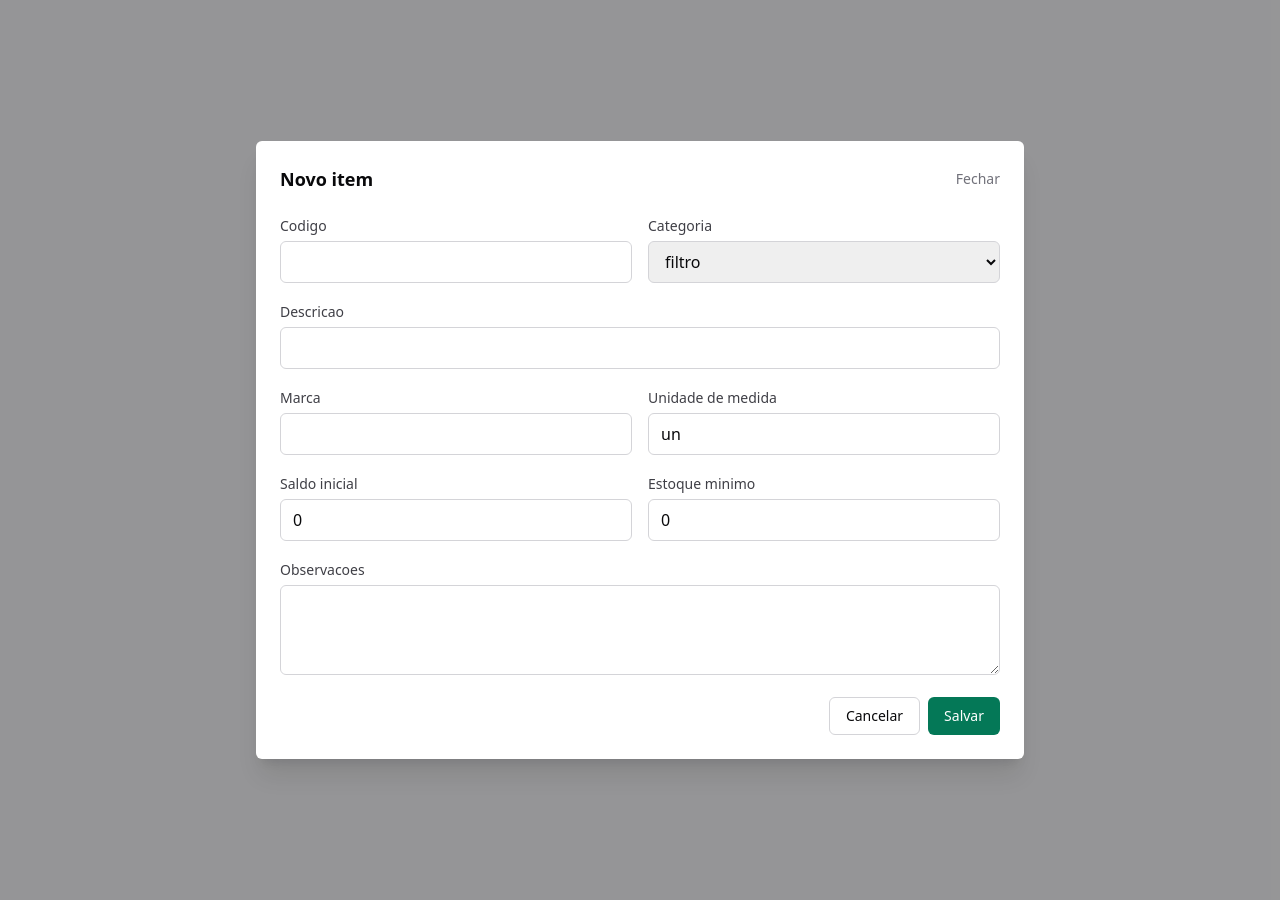
Test: ItemEstoqueFormModal › valida categoria obrigatoria
Select "Selecione" in the dropdown labelled "Categoria" at (824,262), box [648, 241, 1000, 283]
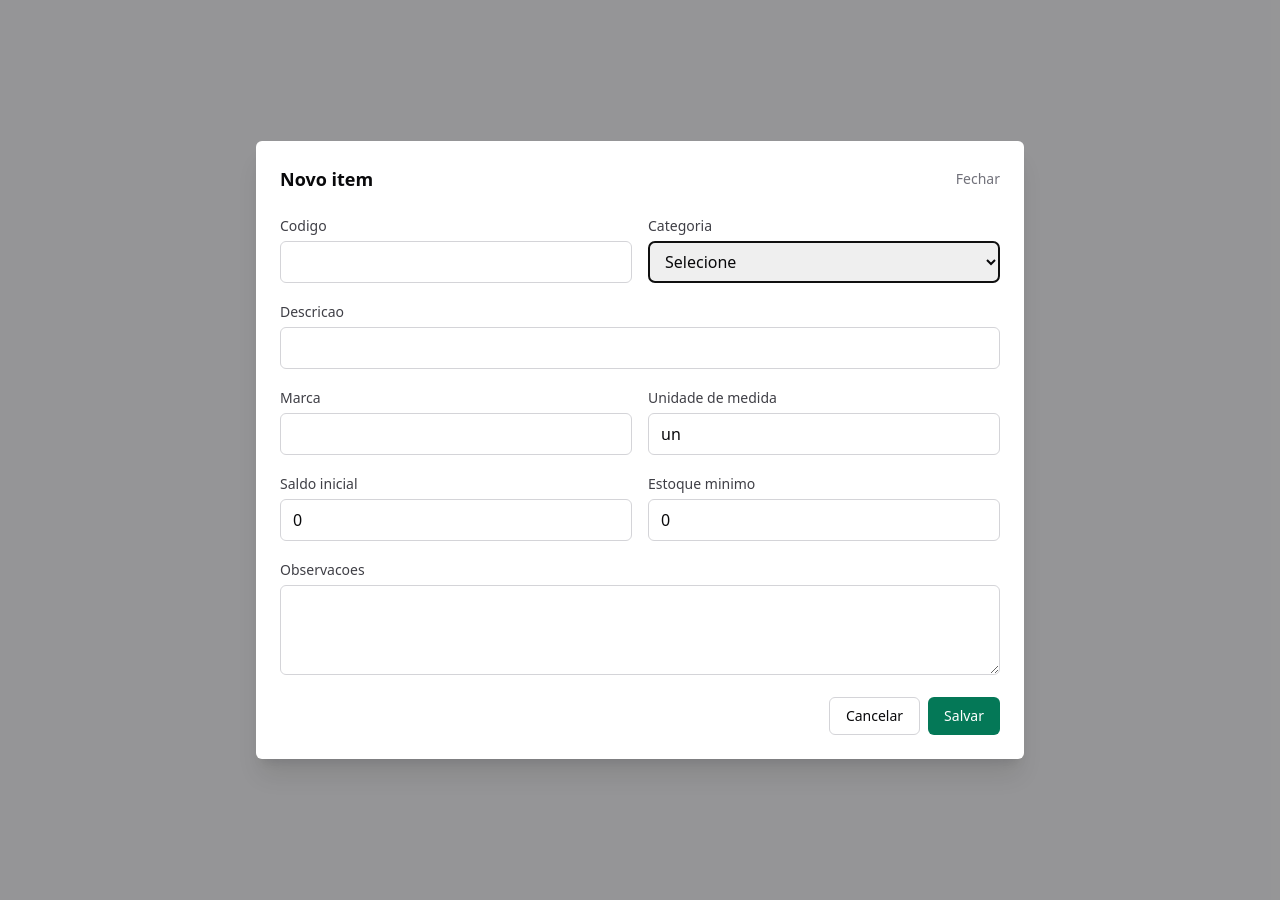
Click the button "Salvar" at (964,716), box [928, 697, 1000, 735]
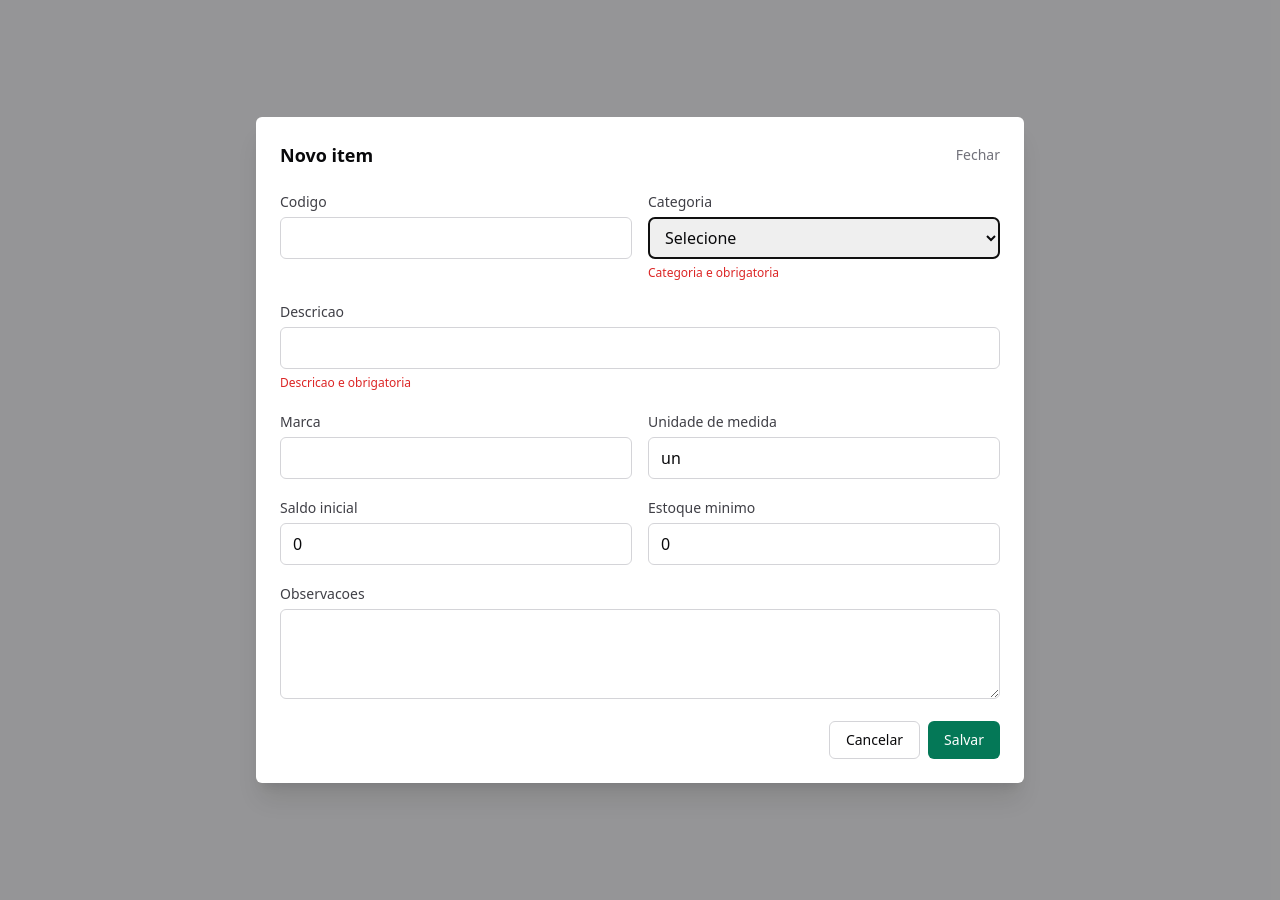
Check: the text "Categoria e obrigatoria" is shown, box [648, 264, 779, 281]
